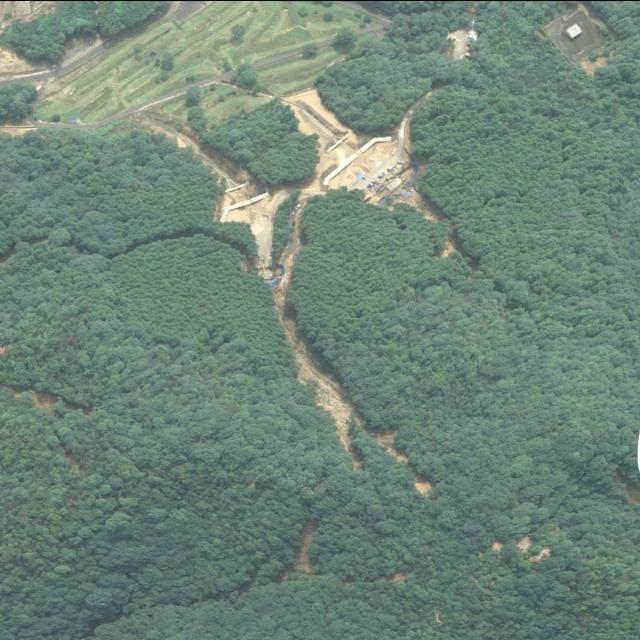landslide: (275, 292, 359, 451), (371, 431, 407, 462), (415, 475, 432, 495)
